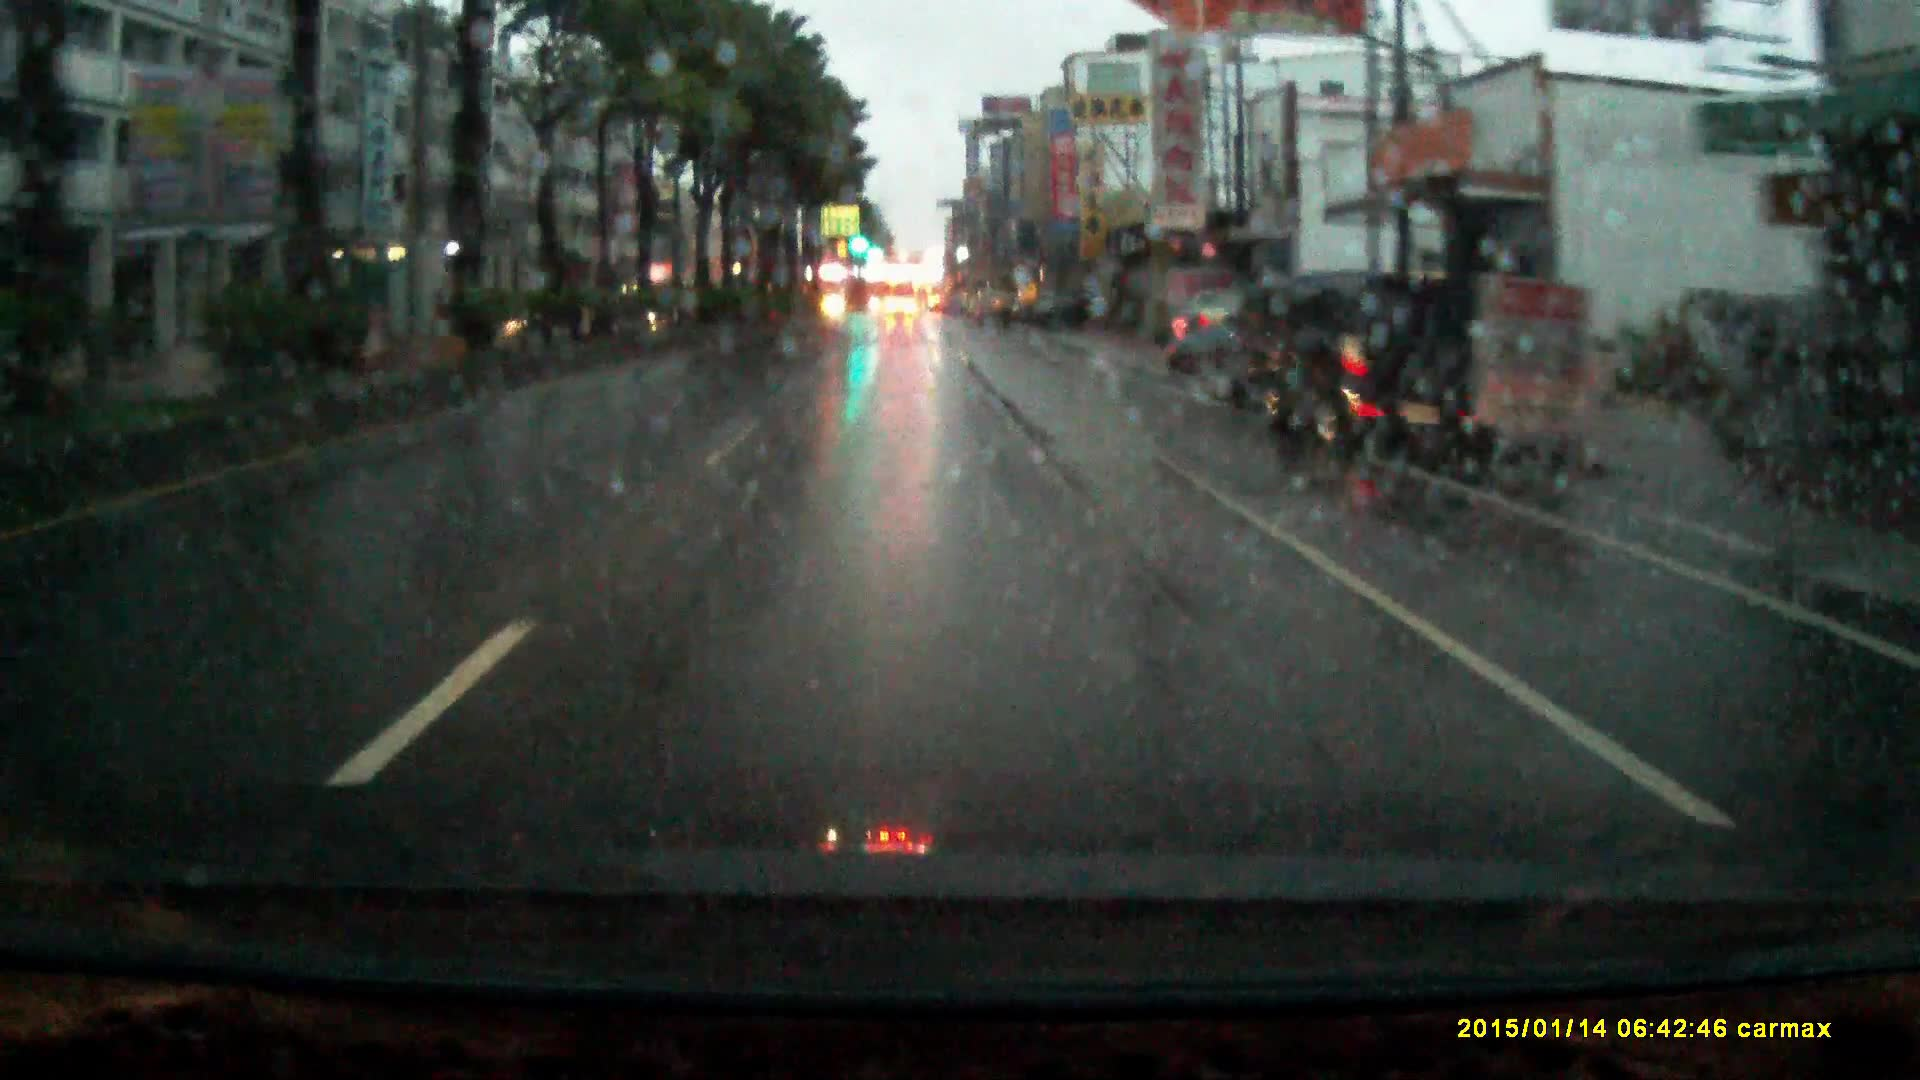vehicle: (1250, 272, 1487, 469), (1209, 269, 1360, 429), (1168, 301, 1241, 376), (973, 289, 1017, 334), (884, 295, 918, 320)
